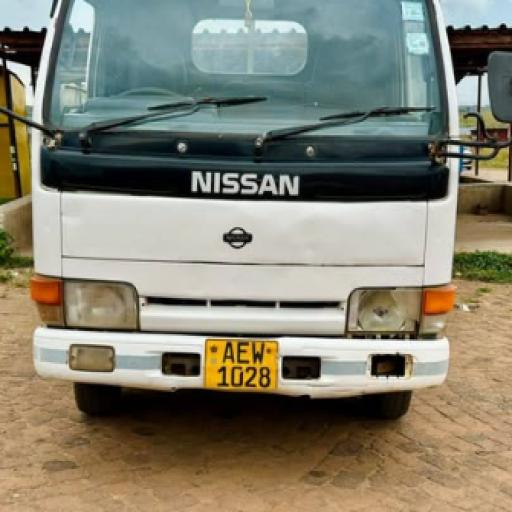number-plates: (206, 338, 275, 388)
